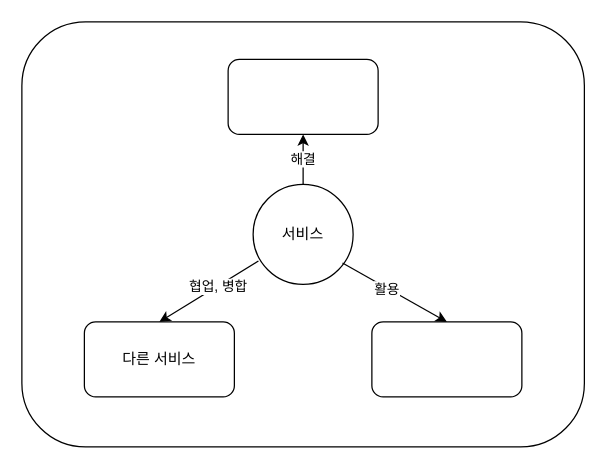
Image size: 606x469. Some labels were removed from this diagram. The shapes that lost their labels are listed below. From the top down, each one's centre as x and y in pixels, then its label:
point 302,96: 부산물
point 446,359: 사용자 편향
